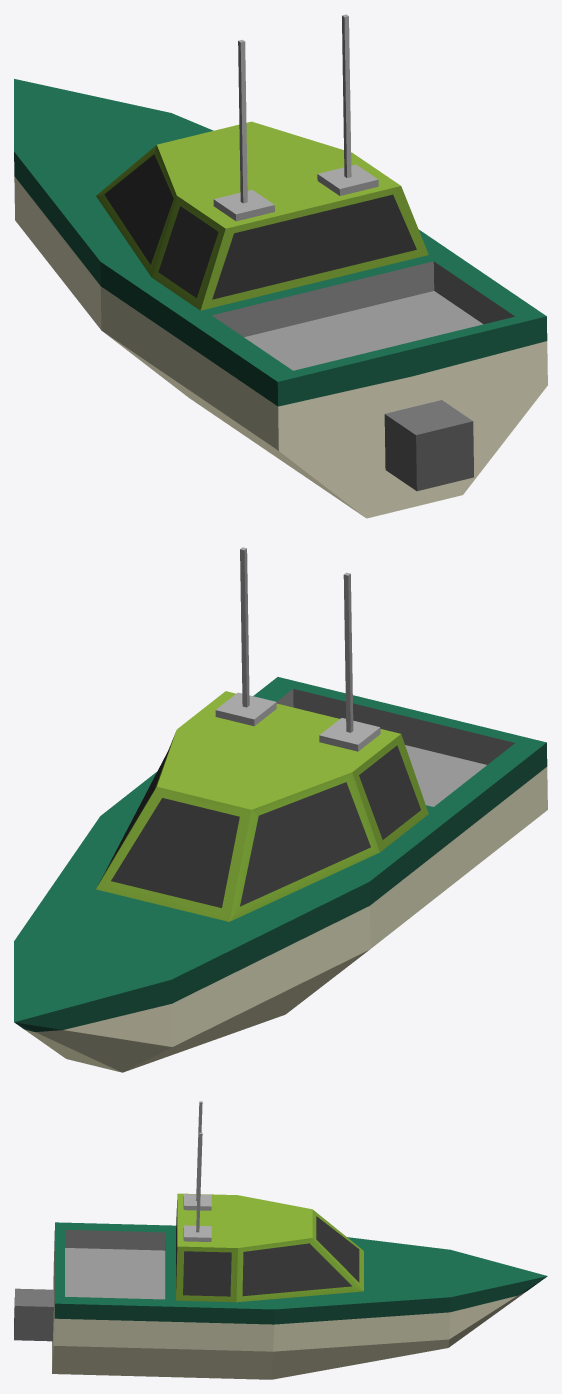
The model's file is Animated_Boat_2.glb.
3 renders of one model, top to bottom at view 1: azimuth 30°, elevation 25°; view 2: azimuth 150°, elevation 25°; view 3: azimuth 270°, elevation 25°, orthographic. The views are drawn at different scales.
Visible parts, largest first — view 1: Vehicle_Boat_01; view 2: Vehicle_Boat_01; view 3: Vehicle_Boat_01.
Boxes of the visible parts, box(x1,y1,x2,y2) form: Vehicle_Boat_01: box(14, 14, 547, 518); Vehicle_Boat_01: box(14, 547, 547, 1072); Vehicle_Boat_01: box(14, 1101, 547, 1379).
Bounding box in the file's own units: 2.5 × 3.55 × 6.94.
1 material, 1 textured.
